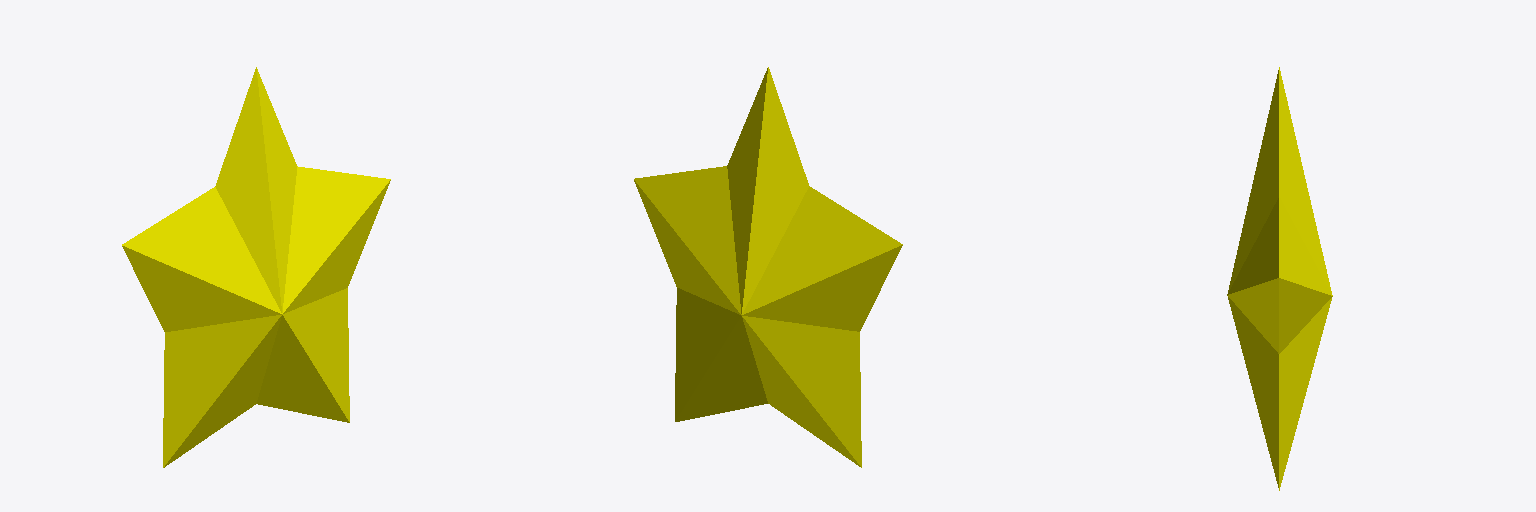
3 renders of one model, left to right at view 1: azimuth 30°, elevation 25°; view 2: azimuth 150°, elevation 25°; view 3: azimuth 270°, elevation 25°, orthographic.
Visible parts, largest first — view 1: Cube; view 2: Cube; view 3: Cube.
Boxes of the visible parts, x1=… form: Cube: x1=122, y1=67, x2=390, y2=467; Cube: x1=634, y1=67, x2=902, y2=467; Cube: x1=1227, y1=67, x2=1332, y2=490.
Size of the model in its own units: 0.8062 by 1.08 by 0.2729.
1 materials, 1 textured.